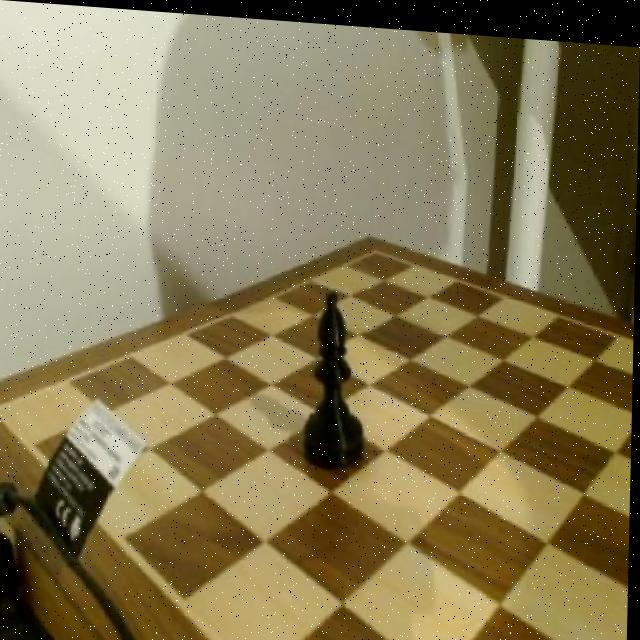bishop: (297, 276, 369, 476)
